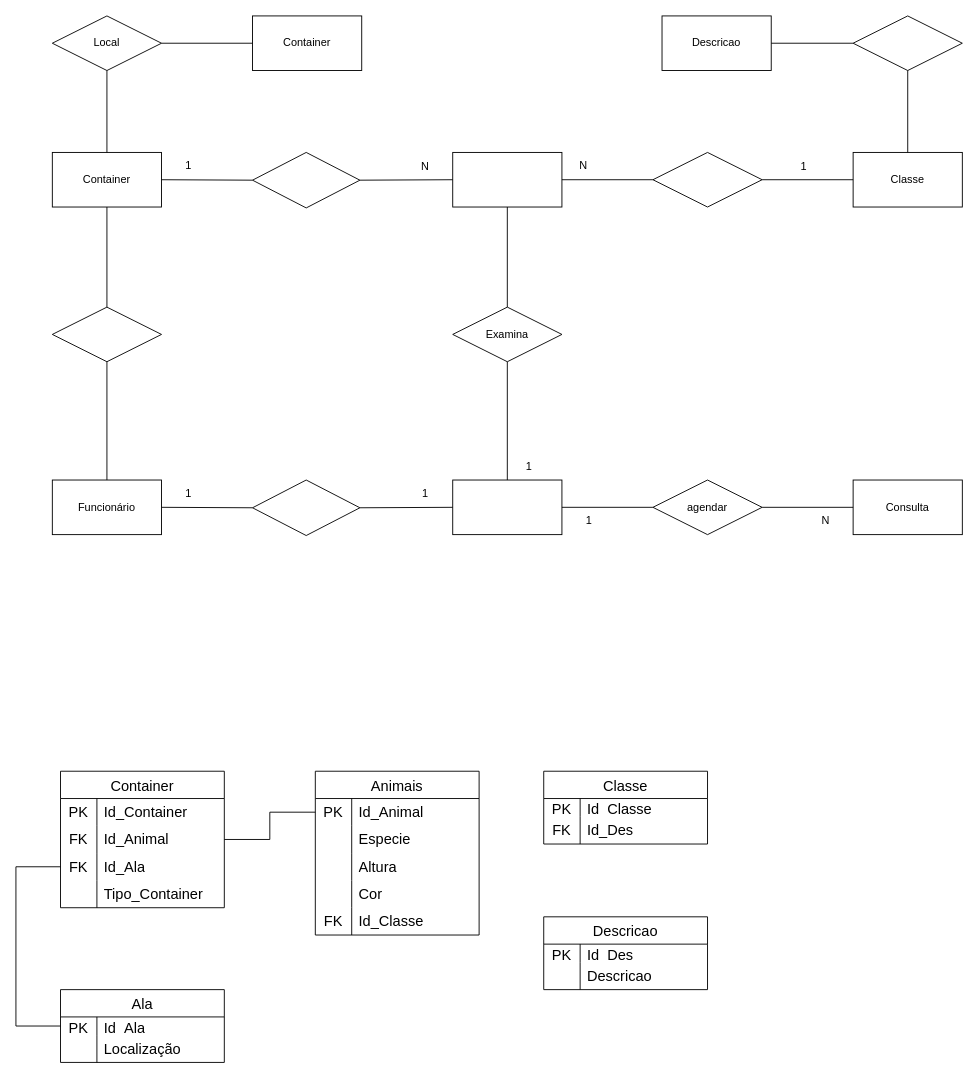
The diagram is 978 pixels wide and 1078 high, and some of its shapes have lost their labels. The shapes that lost their labels are listed below. From the top down, each one's centre as x and y in pixels, then its label:
At [907,43]: "Definicao".
At [306,180]: "Manter".
At [507,179]: "Animal".
At [707,179]: "Categorizar".
At [106,334]: "Limpeza".
At [306,507]: "Tipo".
At [507,507]: "Veterinário".
